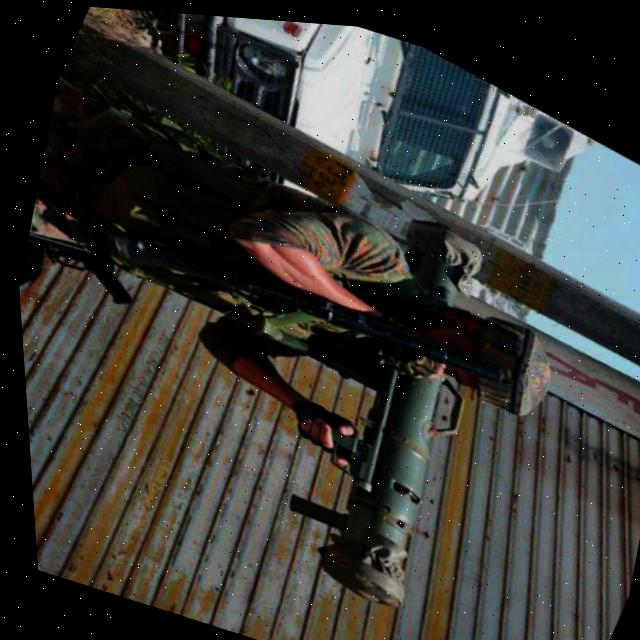rocket: (231, 168, 566, 640)
